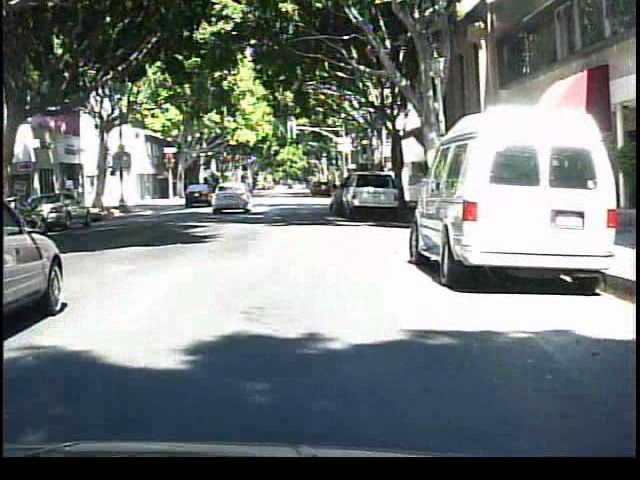person: (223, 171, 245, 206)
